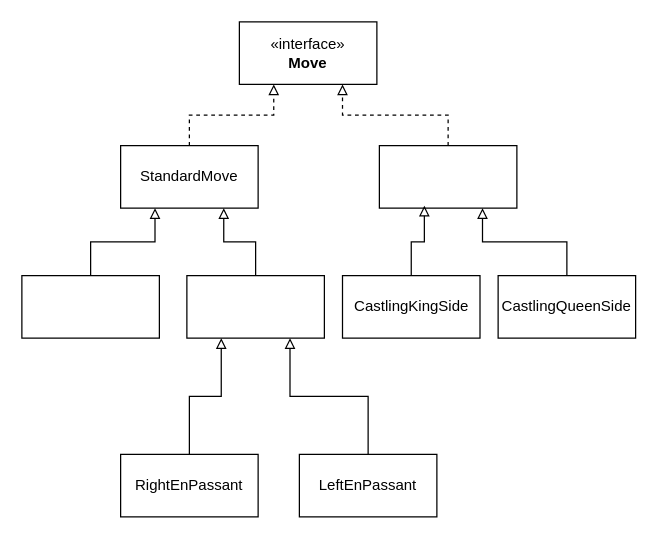
This 658x539 diagram has some shape labels left out. Each missing label, with the centre of its shape:
EnPassant: the point at 255,306
PawnPush: the point at 90,306
«abstract» Castling: the point at 447,176
